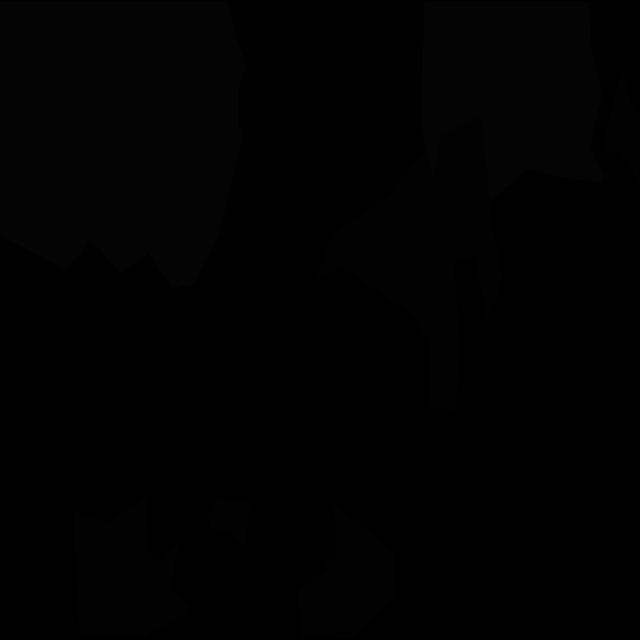cardboard: (314, 116, 504, 411), (73, 496, 189, 637), (297, 503, 395, 639), (604, 68, 640, 183), (206, 497, 251, 547)
soft_plastic: (0, 1, 246, 289), (420, 1, 604, 203)
